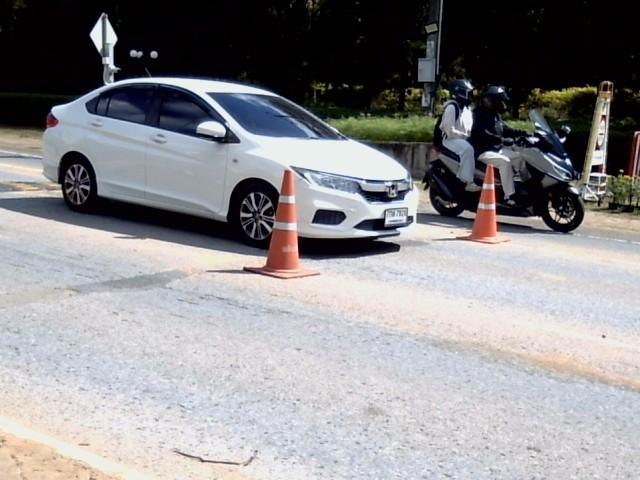helmet: (481, 83, 509, 112), (452, 79, 476, 105)
motor: (495, 109, 584, 231), (424, 148, 480, 216)
person: (470, 85, 528, 206), (439, 78, 479, 190)
